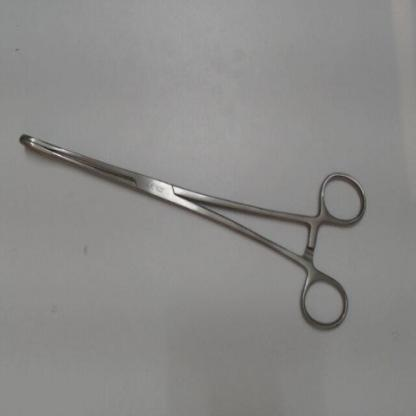Sponge Forceps: (12, 123, 376, 341)
